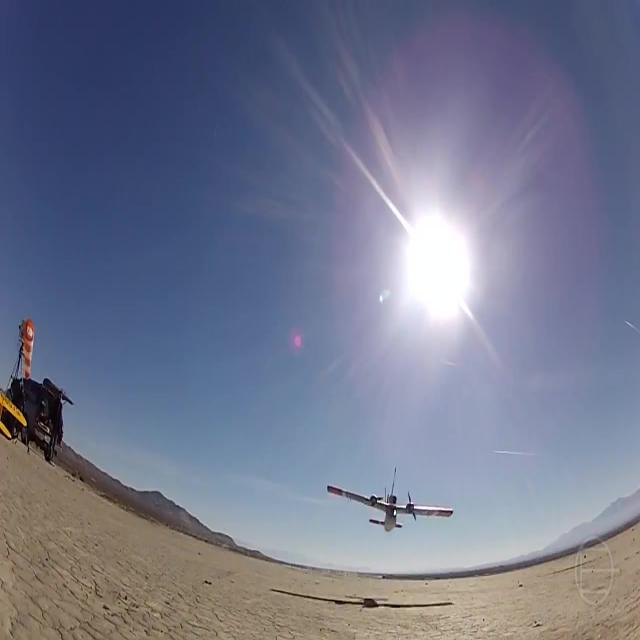iha: (358, 497, 422, 502)
